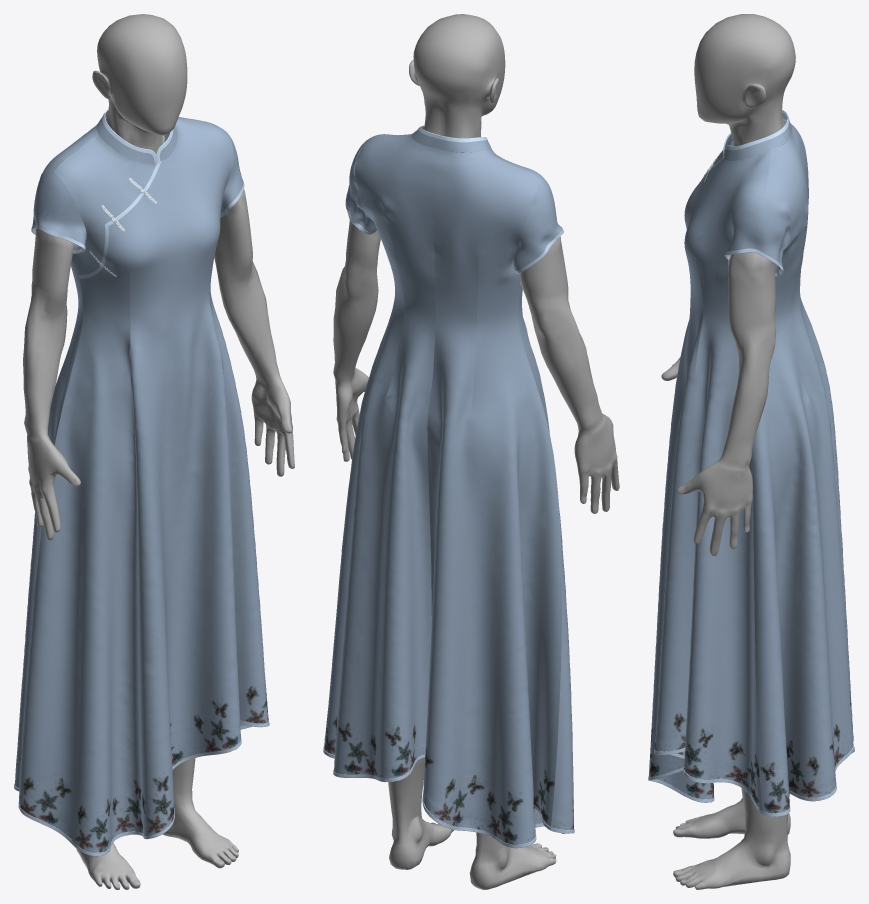
The model's file is final_women_top.glb.
3 renders of one model, left to right at view 1: azimuth 30°, elevation 25°; view 2: azimuth 150°, elevation 25°; view 3: azimuth 270°, elevation 25°, orthographic.
Visible parts, largest first — view 1: women_top; view 2: women_top; view 3: women_top.
Part boxes in pixels (left/top/right/bottom): women_top: left=14, top=14, right=294, bottom=889; women_top: left=323, top=14, right=619, bottom=889; women_top: left=648, top=14, right=854, bottom=889.
Bounding box in the file's own units: 2.85 × 8.78 × 1.96.
Materials: 3 (1 with a texture image).
